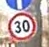limite 30: (6, 10, 37, 41)
